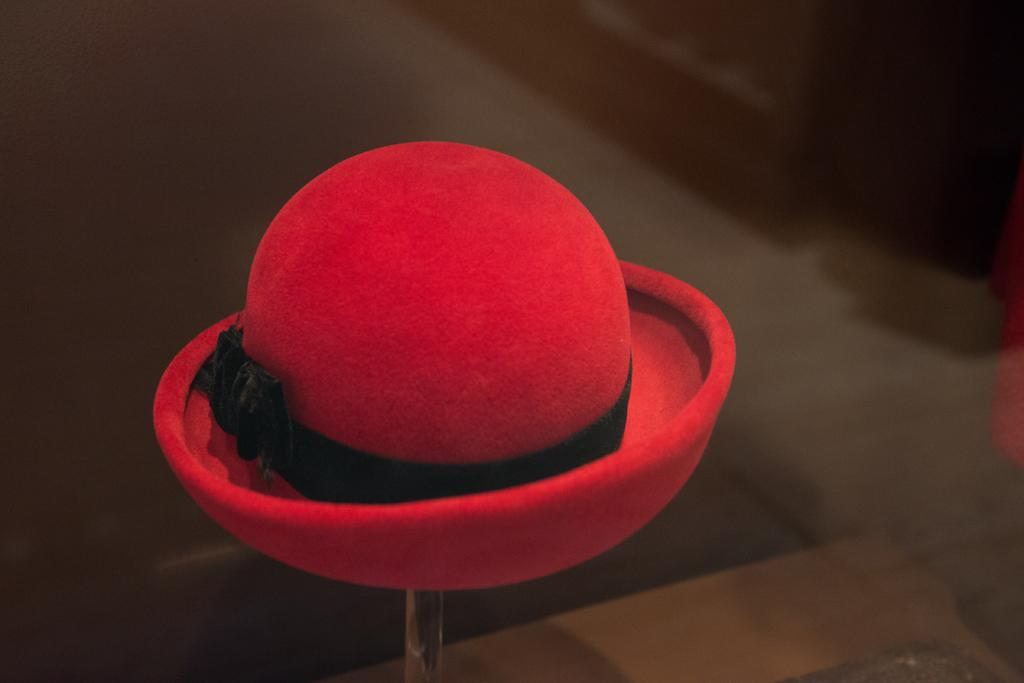Hat: (150, 138, 738, 597)
